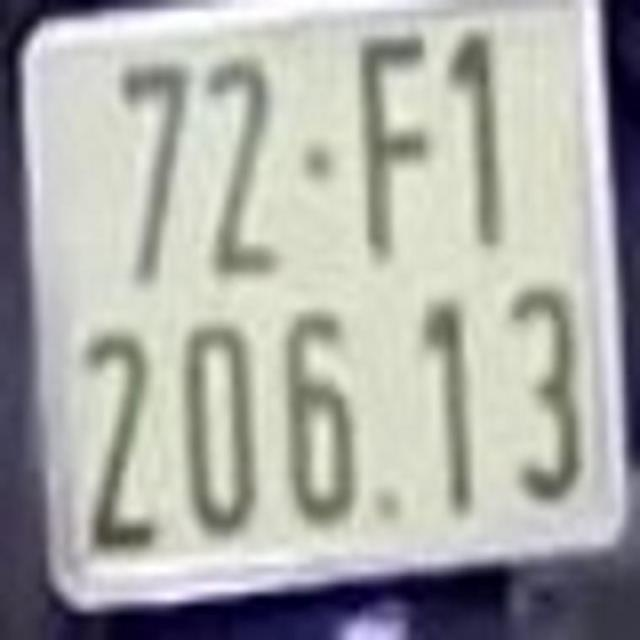0: (177, 317, 258, 536)
1: (445, 24, 516, 262), (414, 295, 484, 516)
2: (81, 320, 162, 561), (202, 54, 281, 276)
3: (503, 286, 588, 508)
6: (277, 303, 359, 524)
7: (115, 61, 192, 278)
F: (352, 28, 435, 262)
